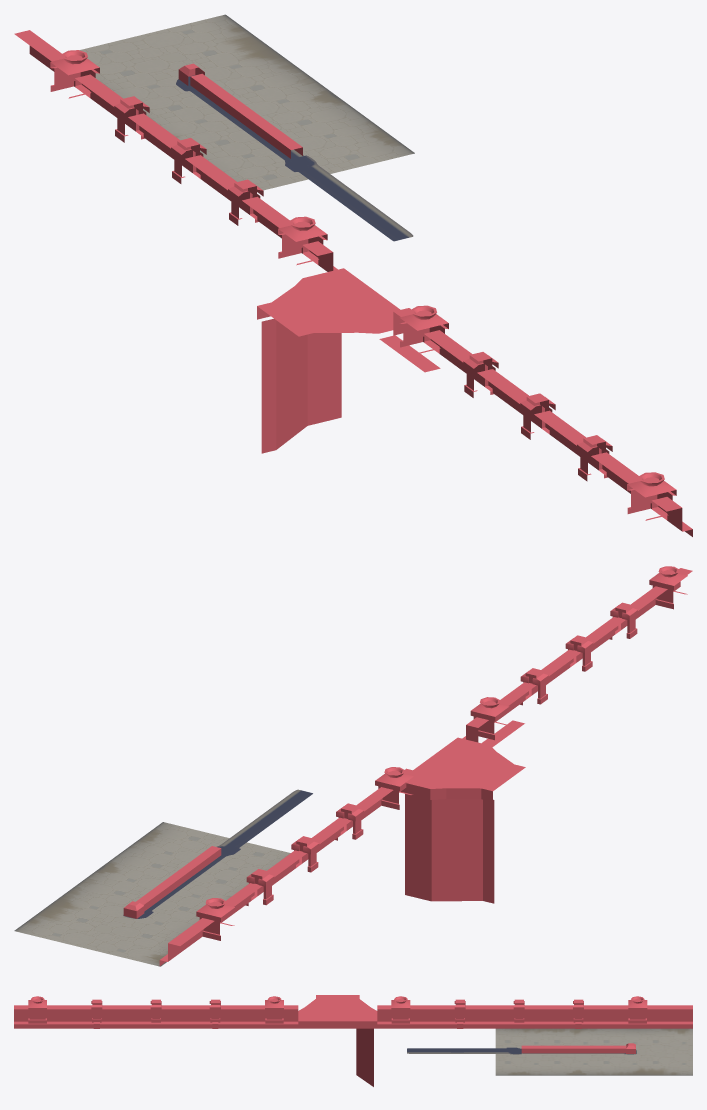
File: ENV_02.fbx
3 renders of one model, top to bottom at view 1: azimuth 30°, elevation 25°; view 2: azimuth 150°, elevation 25°; view 3: azimuth 270°, elevation 25°, orthographic. The views are drawn at different scales.
Visible parts, largest first — view 1: terrain, be1, mau2, mau, middle, middle_shadow2, middle_shadow; view 2: terrain, be1, mau, mau2, middle, middle_shadow2; view 3: terrain, mau, mau2, be1, middle, middle_shadow2.
Part boxes in pixels (x1,y1,x2,y2): terrain: (79,14,414,190); be1: (257,268,400,453); mau2: (379,305,692,536); mau: (14,30,337,271); middle: (178,63,302,158); middle_shadow2: (285,155,413,241); middle_shadow: (176,75,303,160); terrain: (14,822,290,966); be1: (401,737,525,903); mau: (159,767,418,965); mau2: (462,566,692,747); middle: (123,846,221,918); middle_shadow2: (216,789,312,856); terrain: (495,1028,692,1075); mau: (377,996,692,1028); mau2: (14,996,298,1028); be1: (298,995,377,1086); middle: (521,1043,635,1053); middle_shadow2: (407,1047,521,1054).
Bounding box in the file's own units: 22.01 × 13.05 × 86.
